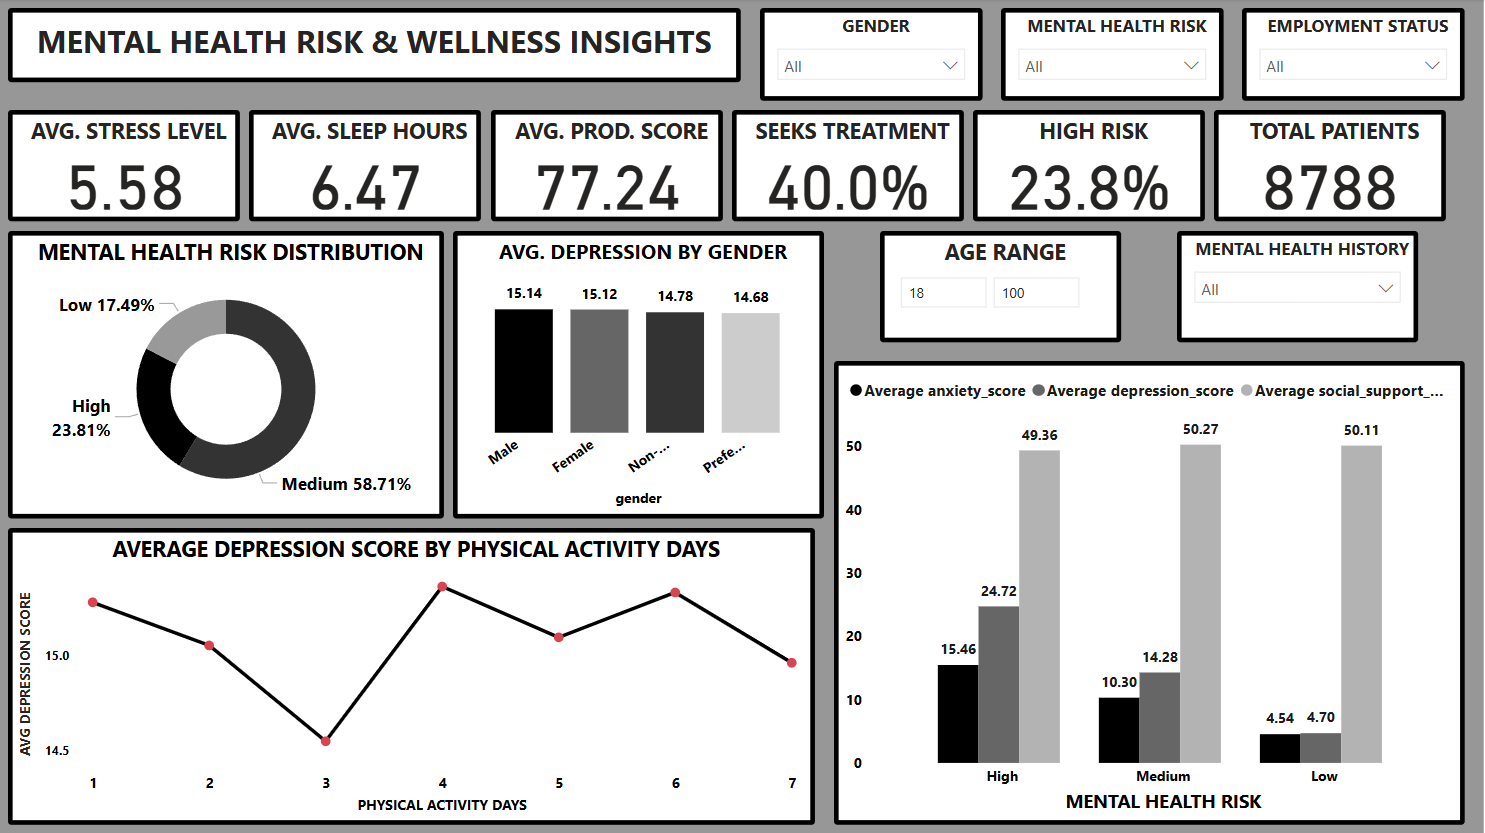

This screenshot's page, from the dashboard's own definition file:
{"tool":"powerbi","page":{"name":"Page 1","canvas":[1280,720],"ordinal":0},"visuals":[{"type":"textbox","box":[8,8,632,64],"z":0},{"type":"slicer","title":"GENDER","fields":{"Values":["mental_health_dataset.gender"]},"box":[656,8,192,80],"z":1000},{"type":"slicer","title":"MENTAL HEALTH RISK","fields":{"Values":["mental_health_dataset.mental_health_risk"]},"box":[864,8,192,80],"z":2000},{"type":"slicer","title":"EMPLOYMENT STATUS","fields":{"Values":["mental_health_dataset.employment_status"]},"box":[1072,8,192,80],"z":3000},{"type":"card","title":"AVG. STRESS LEVEL","fields":{"Values":["Avg(mental_health_dataset.stress_level)"]},"box":[8,96,200,96],"z":4000},{"type":"card","title":"AVG. SLEEP HOURS","fields":{"Values":["Avg(mental_health_dataset.sleep_hours)"]},"box":[216,96,200,96],"z":5000},{"type":"card","title":"AVG. PROD. SCORE","fields":{"Values":["Avg(mental_health_dataset.productivity_score)"]},"box":[424,96,200,96],"z":6000},{"type":"card","title":"SEEKS TREATMENT","fields":{"Values":["mental_health_dataset.% Seeking Treatment"]},"box":[632,96,200,96],"z":7000},{"type":"donutChart","title":"MENTAL HEALTH RISK DISTRIBUTION","fields":{"Category":["mental_health_dataset.mental_health_risk"],"Y":["CountNonNull(mental_health_dataset.mental_health_risk)"]},"box":[8,200,376,248],"z":8000},{"type":"card","title":"HIGH RISK","fields":{"Values":["mental_health_dataset.% high risk"]},"box":[840,96,200,96],"z":9000},{"type":"lineChart","title":"AVERAGE DEPRESSION SCORE BY PHYSICAL ACTIVITY DAYS","fields":{"Y":["Avg(mental_health_dataset.depression_score)"],"Category":["mental_health_dataset.physical_activity_days"]},"box":[8,456,696,256],"z":10000},{"type":"clusteredColumnChart","fields":{"Y":["Avg(mental_health_dataset.anxiety_score)","Avg(mental_health_dataset.depression_score)","Avg(mental_health_dataset.social_support_score)"],"Category":["mental_health_dataset.mental_health_risk"]},"box":[720,312,544,400],"z":11000},{"type":"columnChart","title":"AVG. DEPRESSION BY GENDER","fields":{"Category":["mental_health_dataset.gender"],"Y":["Avg(mental_health_dataset.depression_score)"]},"box":[392,200,320,248],"z":12000},{"type":"card","title":"TOTAL PATIENTS","fields":{"Values":["CountNonNull(mental_health_dataset.gender)"]},"box":[1048,96,200,96],"z":13000},{"type":"slicer","title":"AGE RANGE","fields":{"Values":["mental_health_dataset.age"]},"box":[760,200,208,96],"z":14000},{"type":"slicer","title":"MENTAL HEALTH HISTORY","fields":{"Values":["mental_health_dataset.mental_health_history"]},"box":[1016,200,208,96],"z":15000}]}

Visuals, with their boxes in screenshot pixels (x1, y1, x2, y2), scaled from the page's 1280x720 canvas onto the 1485x833 screenshot:
textbox: Rect(9, 9, 742, 83)
"GENDER" slicer: Rect(761, 9, 984, 102)
"MENTAL HEALTH RISK" slicer: Rect(1002, 9, 1225, 102)
"EMPLOYMENT STATUS" slicer: Rect(1244, 9, 1466, 102)
"AVG. STRESS LEVEL" card: Rect(9, 111, 241, 222)
"AVG. SLEEP HOURS" card: Rect(251, 111, 483, 222)
"AVG. PROD. SCORE" card: Rect(492, 111, 724, 222)
"SEEKS TREATMENT" card: Rect(733, 111, 965, 222)
"MENTAL HEALTH RISK DISTRIBUTION" donutChart: Rect(9, 231, 446, 518)
"HIGH RISK" card: Rect(975, 111, 1207, 222)
"AVERAGE DEPRESSION SCORE BY PHYSICAL ACTIVITY DAYS" lineChart: Rect(9, 528, 817, 824)
clusteredColumnChart - Avg(mental_health_dataset.anxiety_score) x Avg(mental_health_dataset.depression_score): Rect(835, 361, 1466, 824)
"AVG. DEPRESSION BY GENDER" columnChart: Rect(455, 231, 826, 518)
"TOTAL PATIENTS" card: Rect(1216, 111, 1448, 222)
"AGE RANGE" slicer: Rect(882, 231, 1123, 342)
"MENTAL HEALTH HISTORY" slicer: Rect(1179, 231, 1420, 342)
